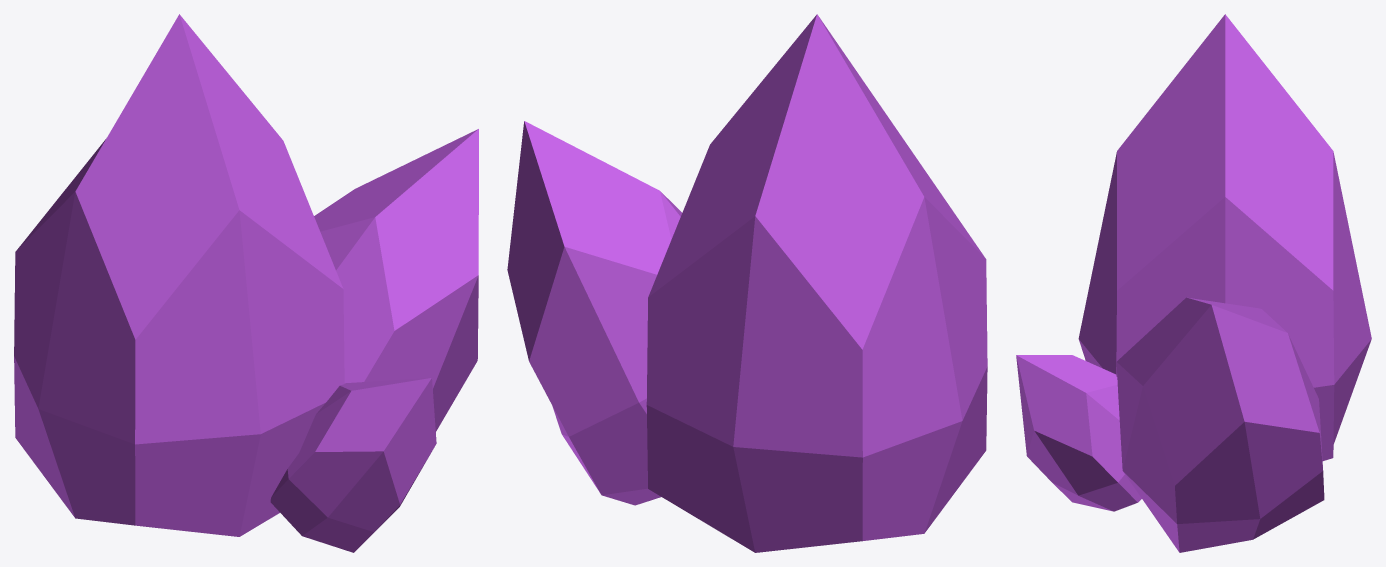
File: crystal.glb
The picture shows the model from 3 angles, left to right: view 1: azimuth 30°, elevation 25°; view 2: azimuth 150°, elevation 25°; view 3: azimuth 270°, elevation 25°; orthographic projection. The views are drawn at different scales.
Visible parts, largest first — view 1: Cube; view 2: Cube; view 3: Cube.
Part boxes in pixels (left/top/right/bottom): Cube: left=14, top=14, right=478, bottom=552; Cube: left=507, top=14, right=987, bottom=552; Cube: left=1016, top=14, right=1371, bottom=552.
Size of the model in its own units: 0.6825 by 0.7609 by 0.5393.
